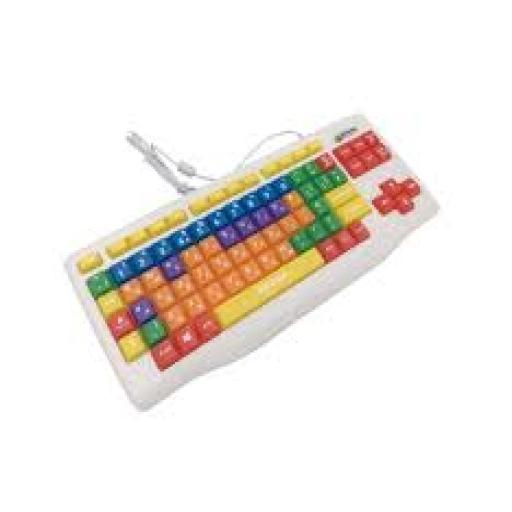KEYBOARD-2: (68, 114, 435, 407)
